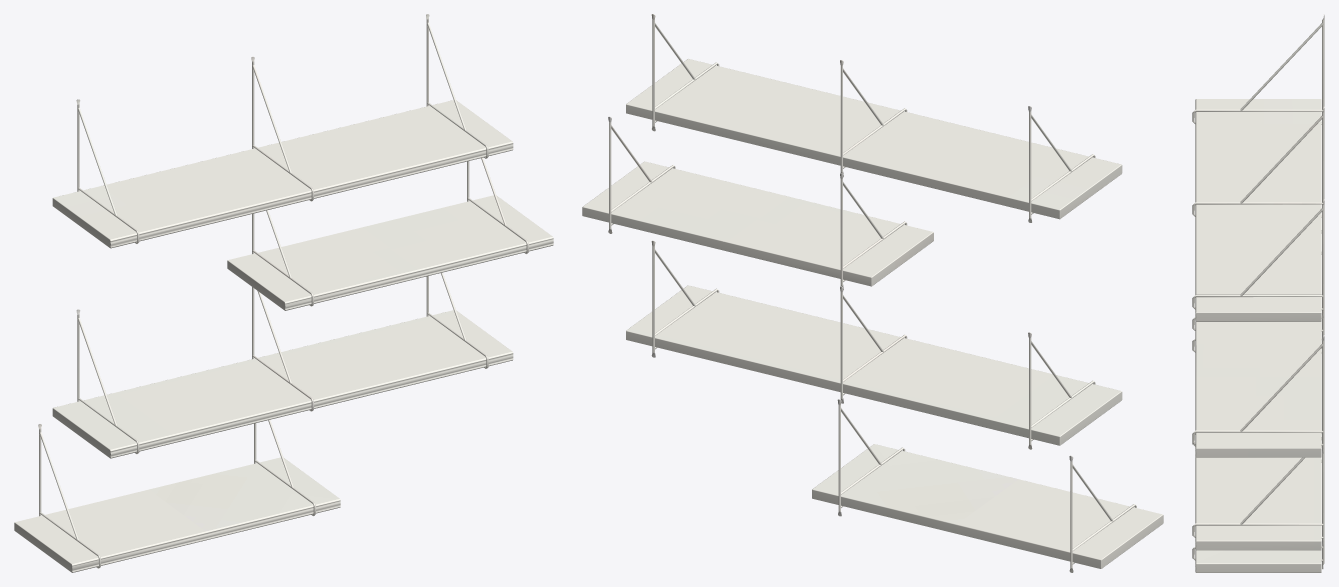
Rendered from 12 - BERGSHULTPERSHULT - 上牆式層架組, 白色白色 IKEA 線上購物.glb.
3 views of the same model, side by side, from view 1: azimuth 30°, elevation 25°; view 2: azimuth 150°, elevation 25°; view 3: azimuth 270°, elevation 25° (orthographic). The views are drawn at different scales.
Visible parts, largest first — view 1: Mesh_0; view 2: Mesh_0; view 3: Mesh_0.
Boxes of the visible parts, x1,y1,x2,y2 form: Mesh_0: (14,14,553,572); Mesh_0: (582,14,1163,572); Mesh_0: (1192,14,1324,572).
Bounding box in the file's own units: 1.43 × 1.21 × 0.314.
Materials: 1 (1 with a texture image).
